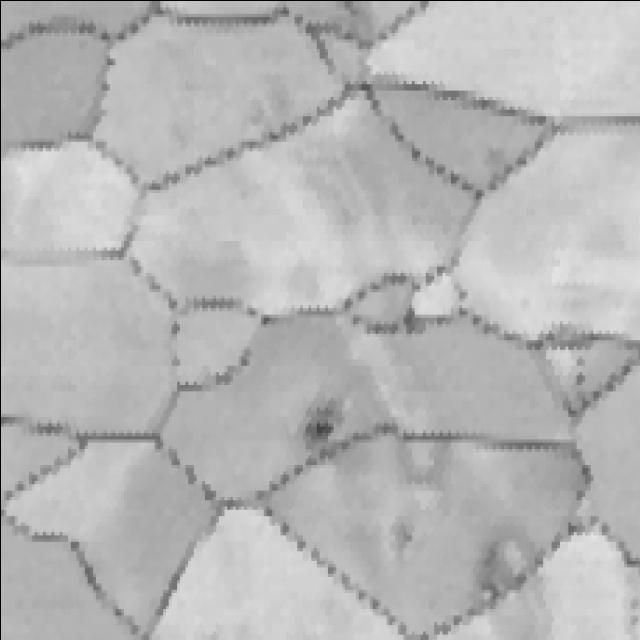good_void: (475, 521, 562, 640), (365, 506, 422, 554), (291, 405, 341, 455), (573, 372, 583, 388), (573, 355, 582, 368)
